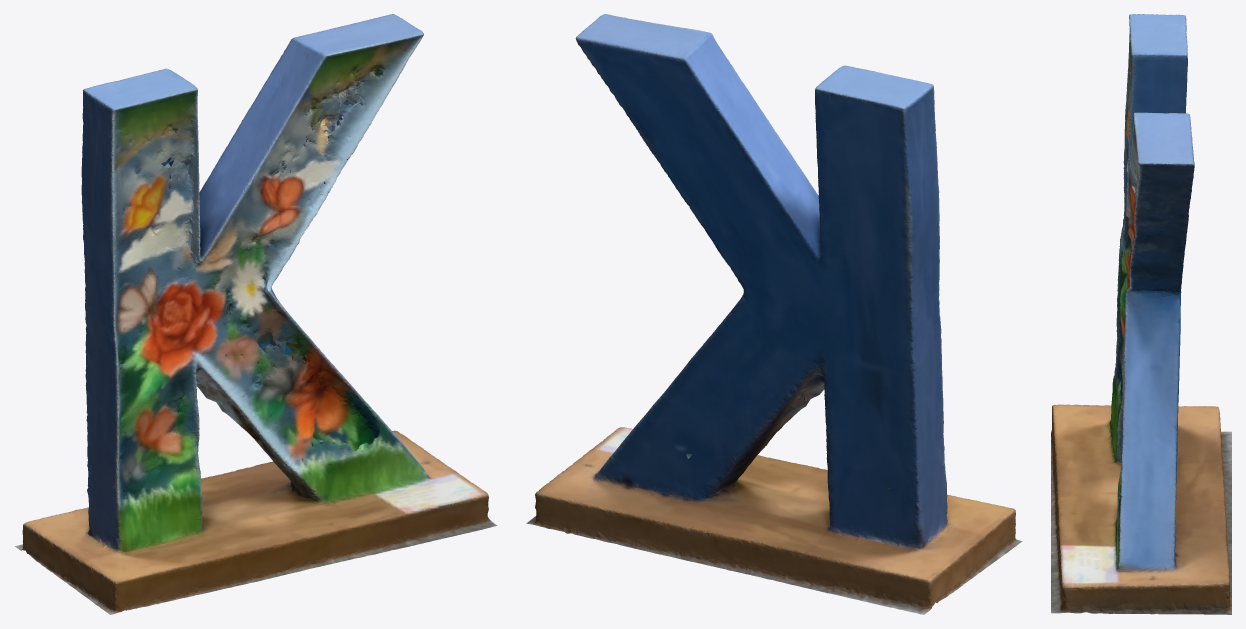
3 renders of one model, left to right at view 1: azimuth 30°, elevation 25°; view 2: azimuth 150°, elevation 25°; view 3: azimuth 270°, elevation 25°, orthographic. The views are drawn at different scales.
Parts seen in each view (by area): view 1: 3DModel; view 2: 3DModel; view 3: 3DModel.
Boxes of the visible parts, bbox=[...] form: 3DModel: bbox=[15, 14, 497, 614]; 3DModel: bbox=[526, 14, 1022, 614]; 3DModel: bbox=[1051, 14, 1231, 614].
Bounding box in the file's own units: 2.3 × 2.68 × 0.9889.
Materials: 1 (1 with a texture image).
